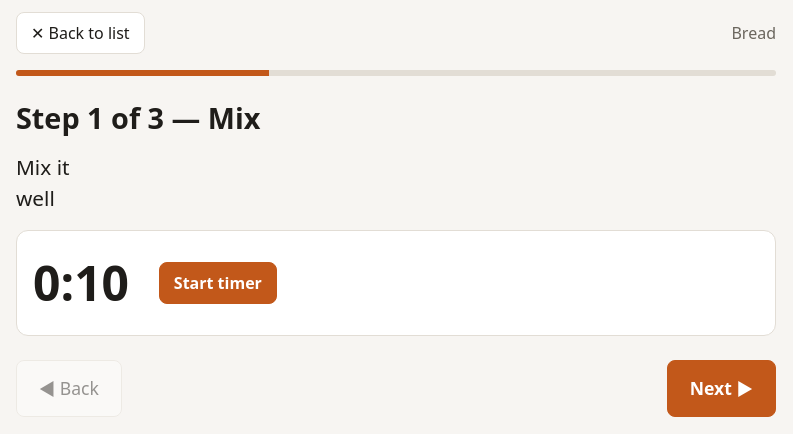
pause and reset
Click the button "Start timer": (218, 283) [159,262,277,304]
Wait 2000 ms
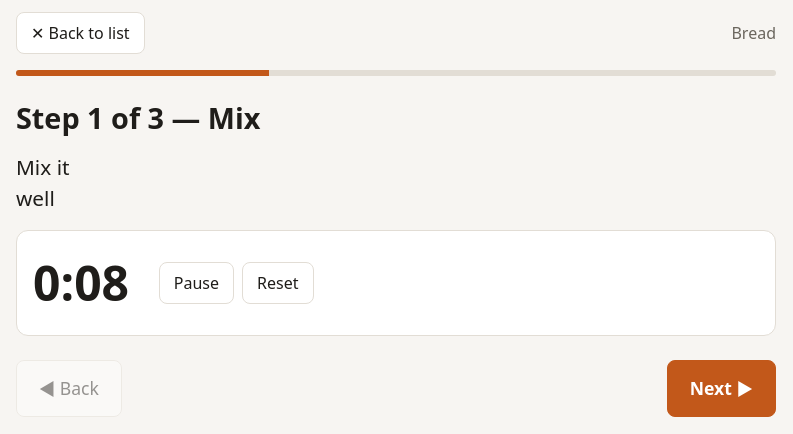
Click the button "Pause": (196, 283) [159,262,234,304]
Wait 5000 ms
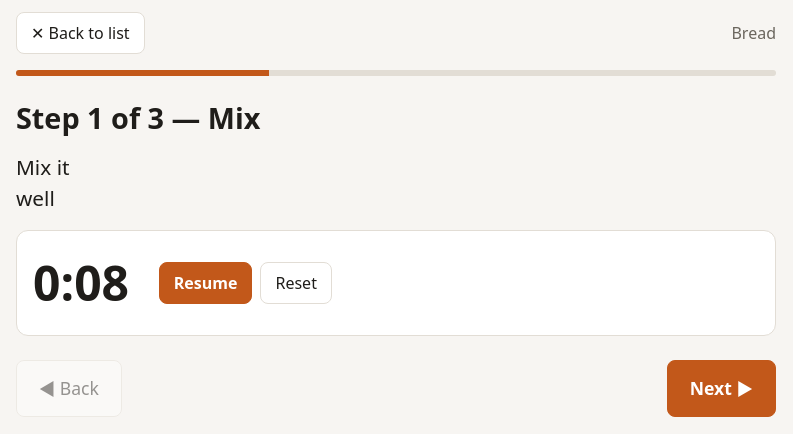
Click the button "Reset": (296, 283) [260,262,332,304]
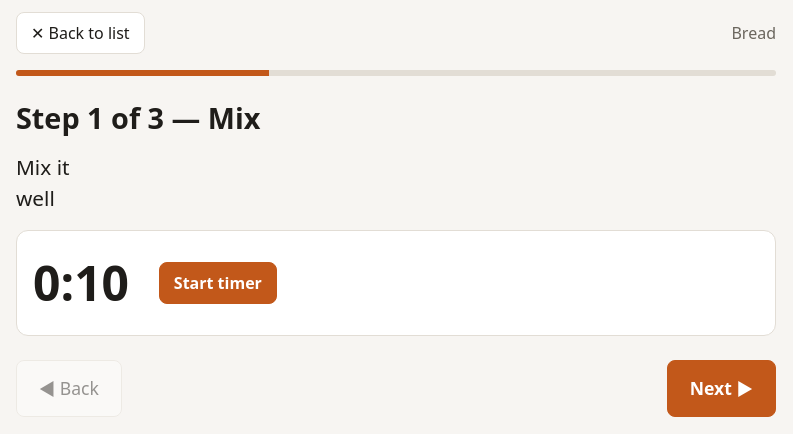
Check: the button "Start timer" is shown, box [159,262,277,304]
